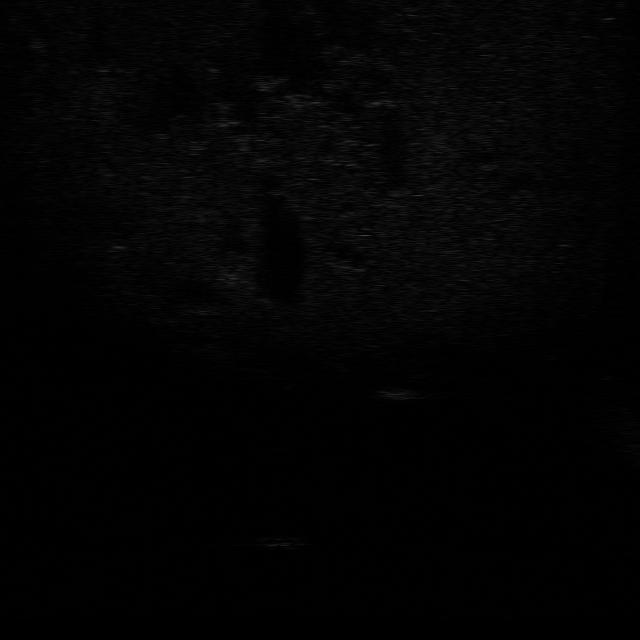cube: (245, 531, 307, 548)
square cage: (375, 386, 423, 404)
